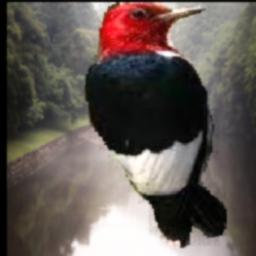Woodpecker: (79, 3, 227, 249)
